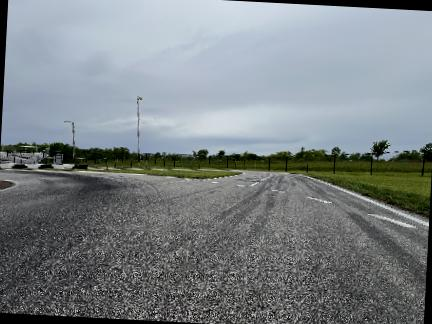Grass: (307, 173, 430, 215), (40, 169, 242, 179), (108, 170, 242, 179)
Lane: (0, 170, 428, 323)
